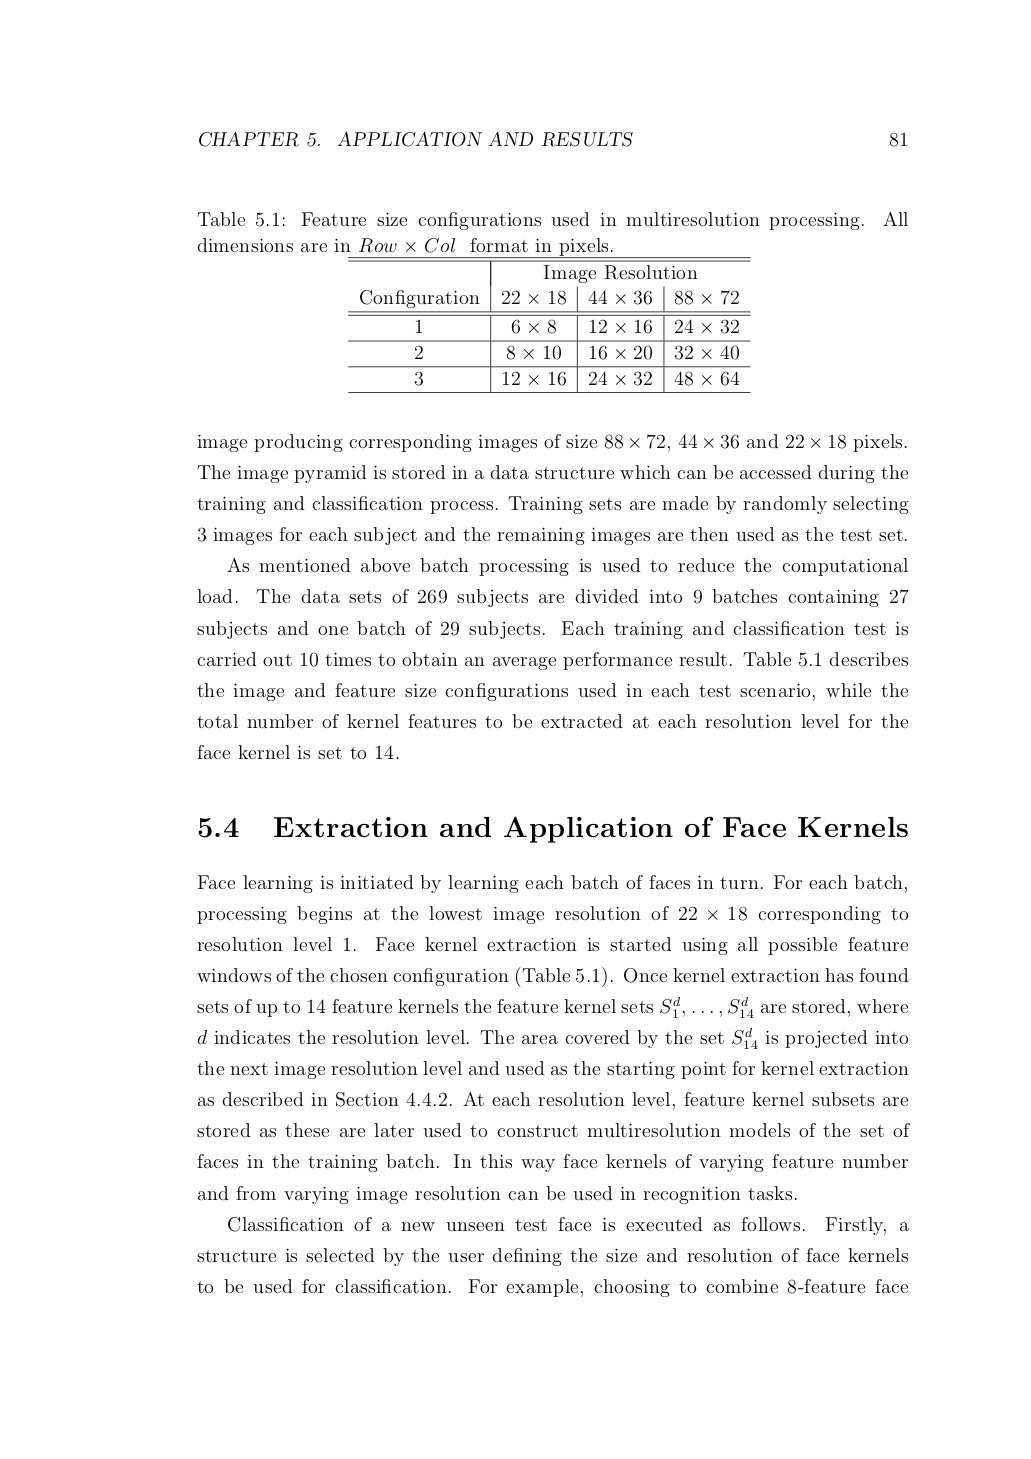Table: (348, 257, 750, 392)
